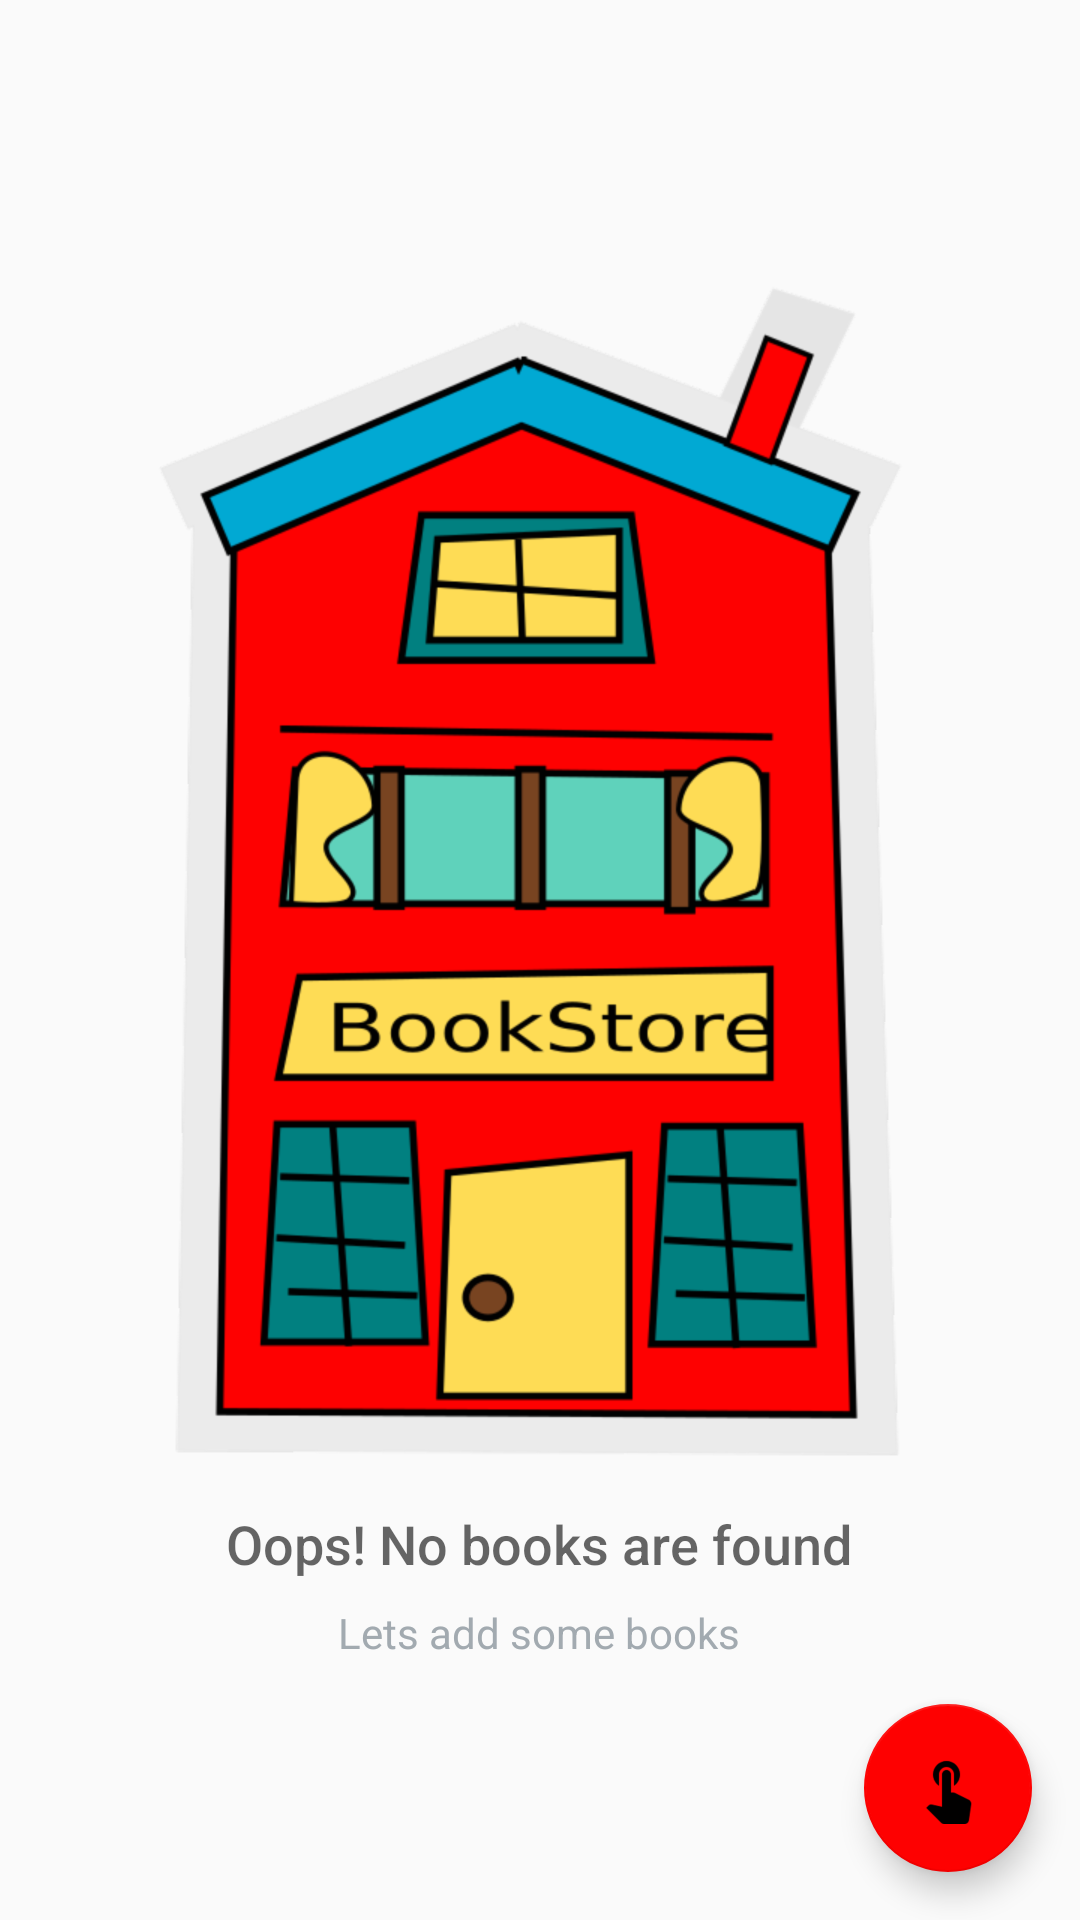

Where to tap for icons on this 1080×1920 app screen, as point (x, y):
touch app: point (948, 1788)
